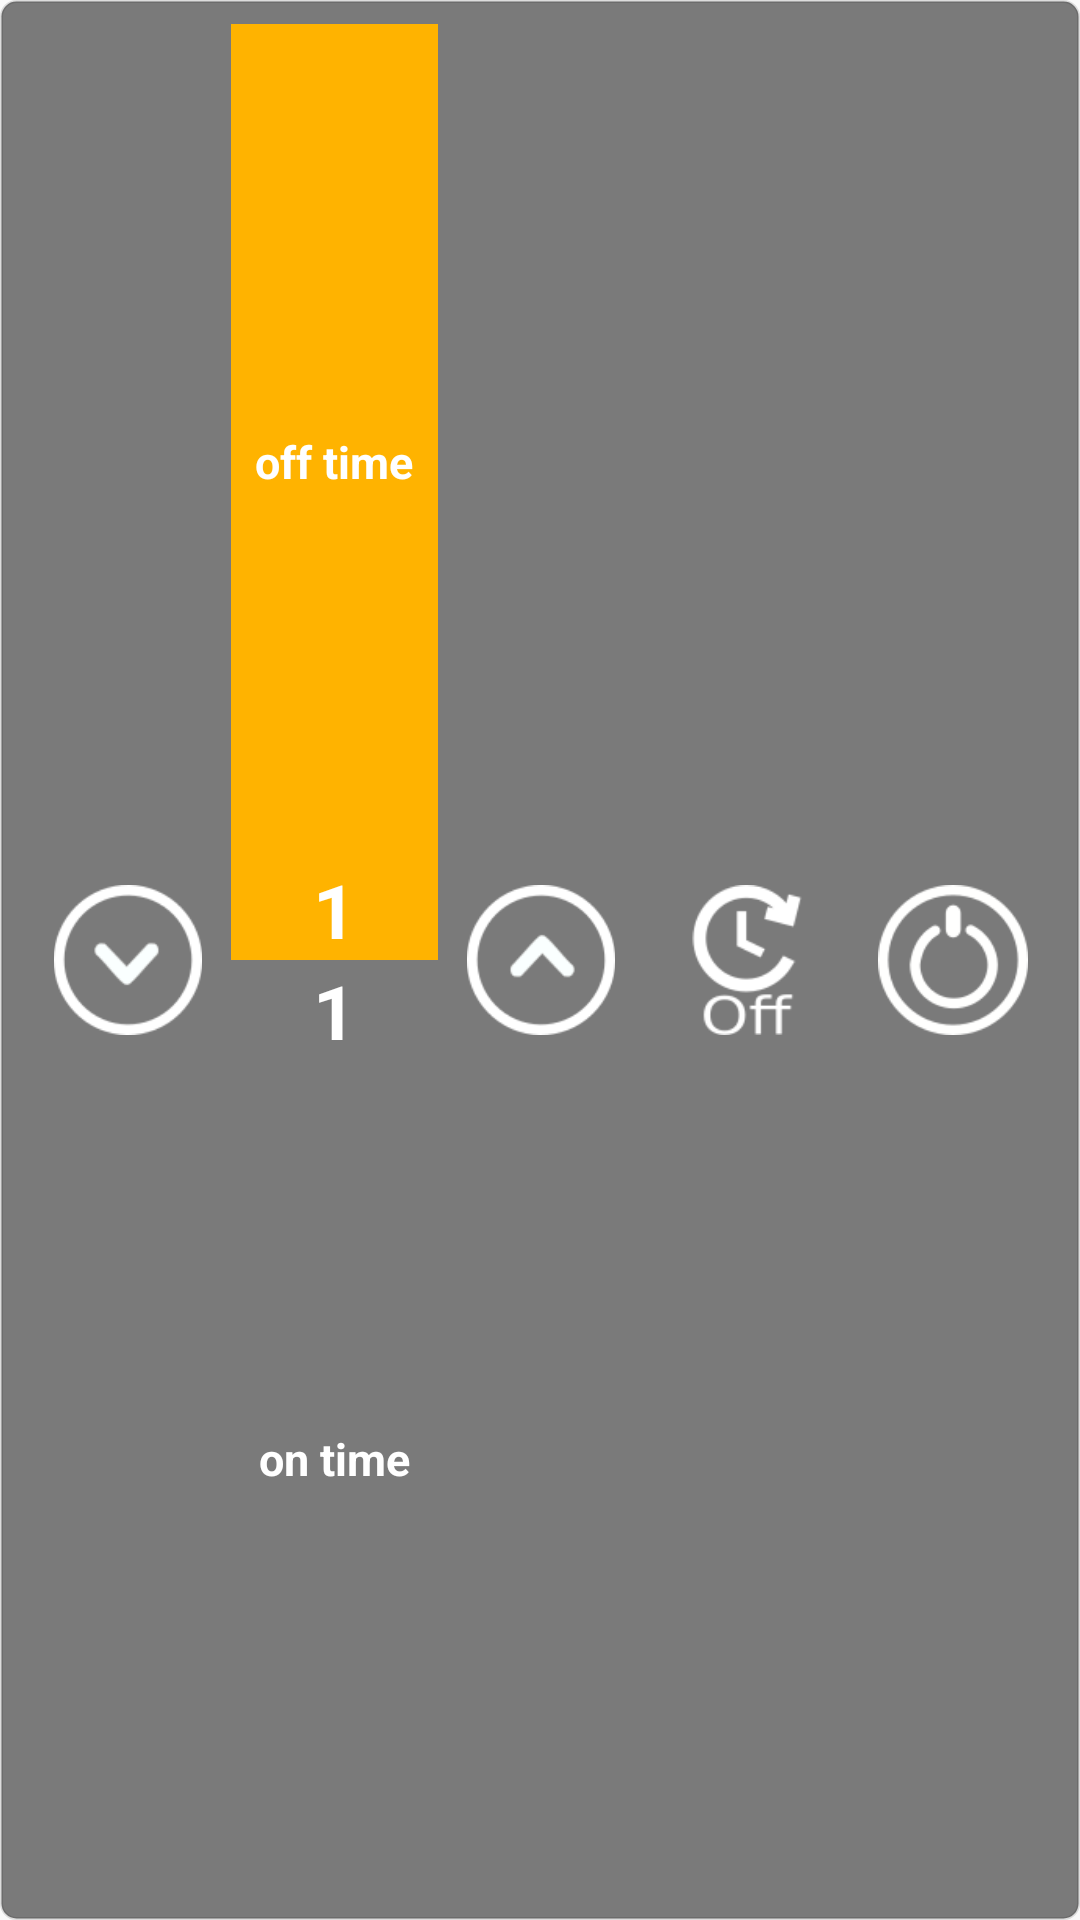

Where to tap for icons on this 1080px×1920px app screen, as [x,y]:
off clock: [746,960]
start stop: [953,960]
transparentdown: [128,960]
transparentup: [541,960]
